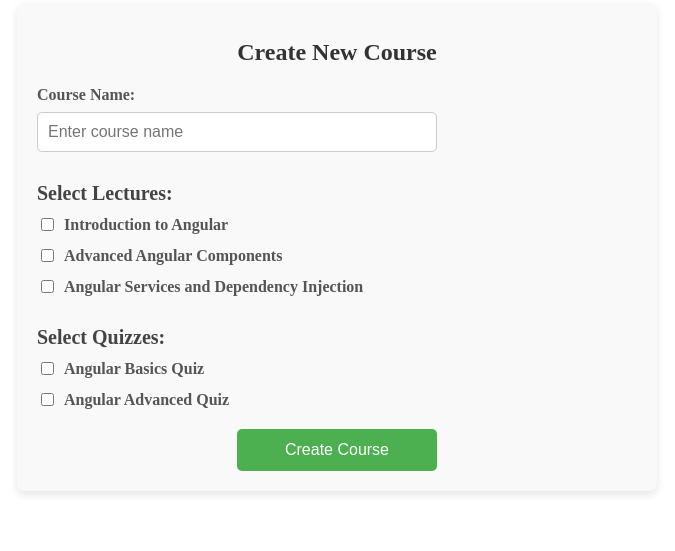
Create Course Page Tests › should show an error message if the course creation fails
The width and height of the screenshot is (675, 551).
Type "New Angular Course" into the field with id "courseName" at (237, 132), box [37,112,437,152]
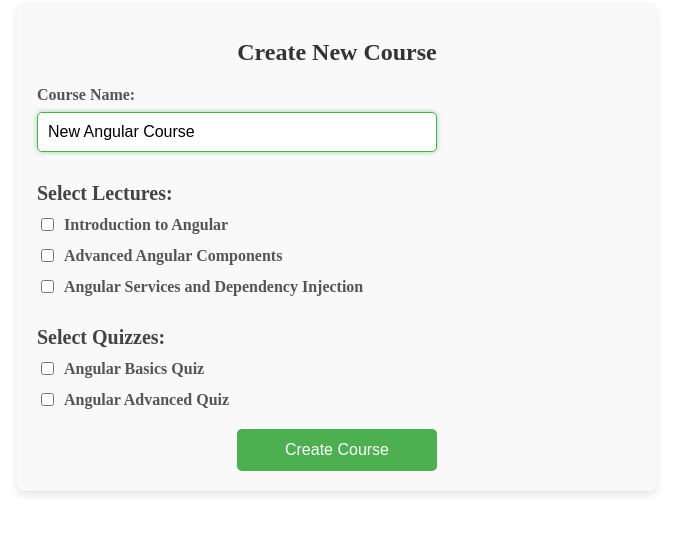
Check the checkbox labelled "Introduction to Angular" at (48, 225), box [41,218,54,231]
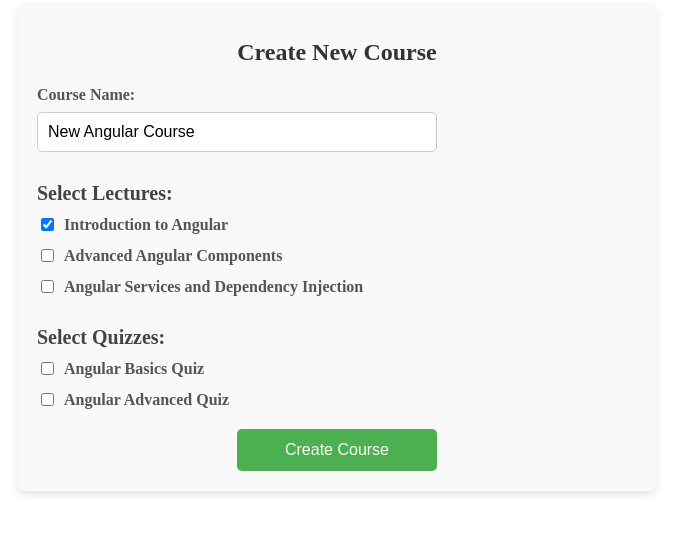
Check the checkbox labelled "Angular Basics Quiz" at (48, 369), box [41,362,54,375]
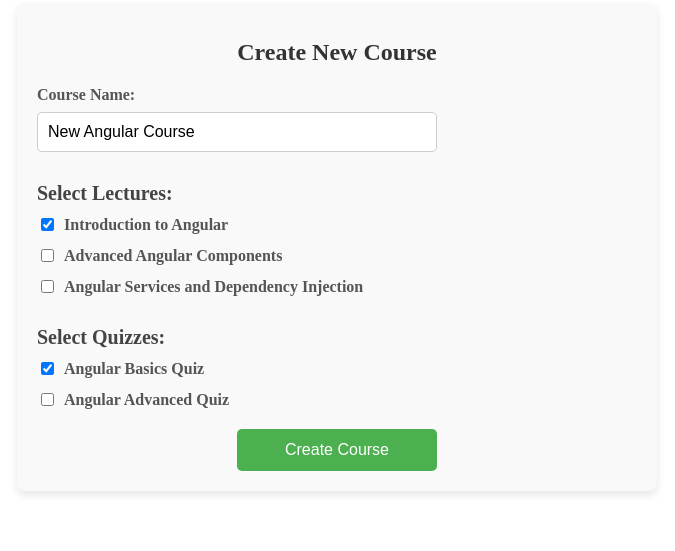
Click the button "Create Course" at (337, 450), box [237,429,437,471]
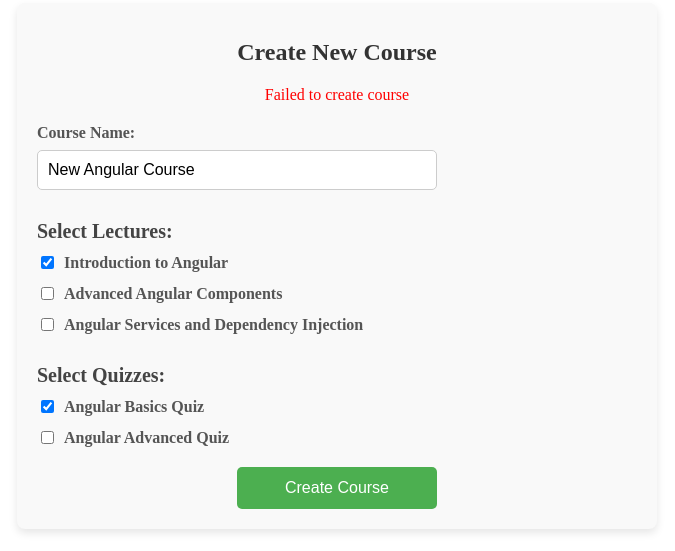
Now the text with class "error-message" reads "Failed to create course", box [265,86,409,103]
